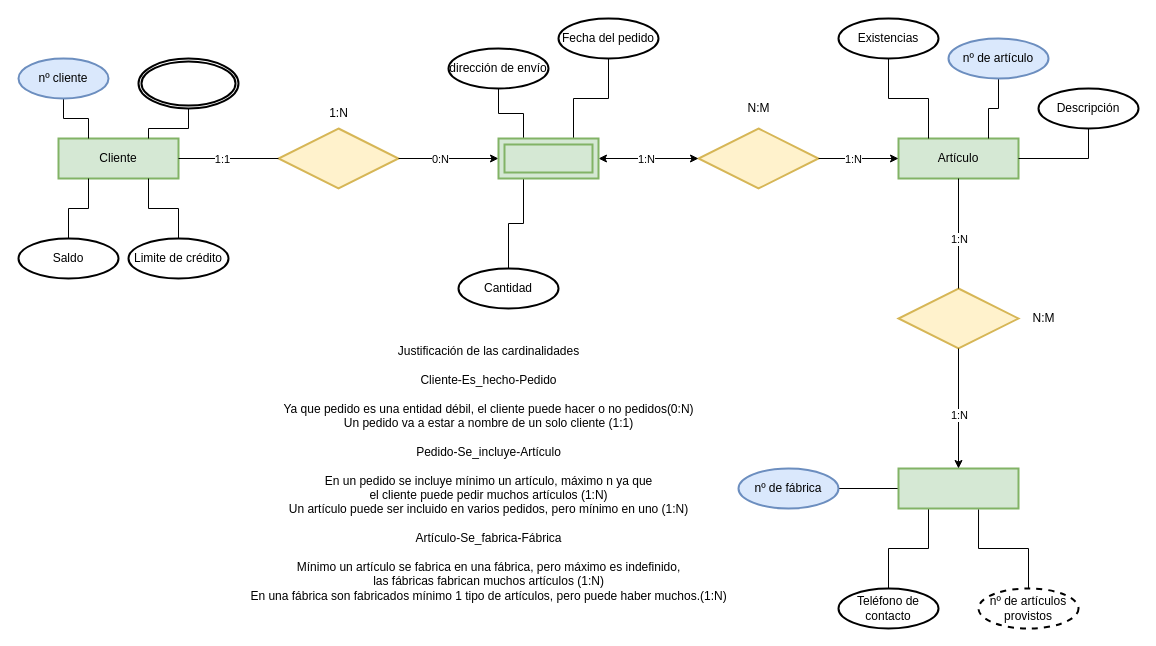
Some shapes in this 1156 by 646 pixel diagram are drawn without their labels. The centre of each missing label's shape, as x and y in pixels:
Direcciones de envío: pixel 188 83
Es hecho: pixel 338 158
Fábrica: pixel 958 488
Pedido: pixel 548 158
Se_fabrica: pixel 958 318
Se_incluye: pixel 758 158
